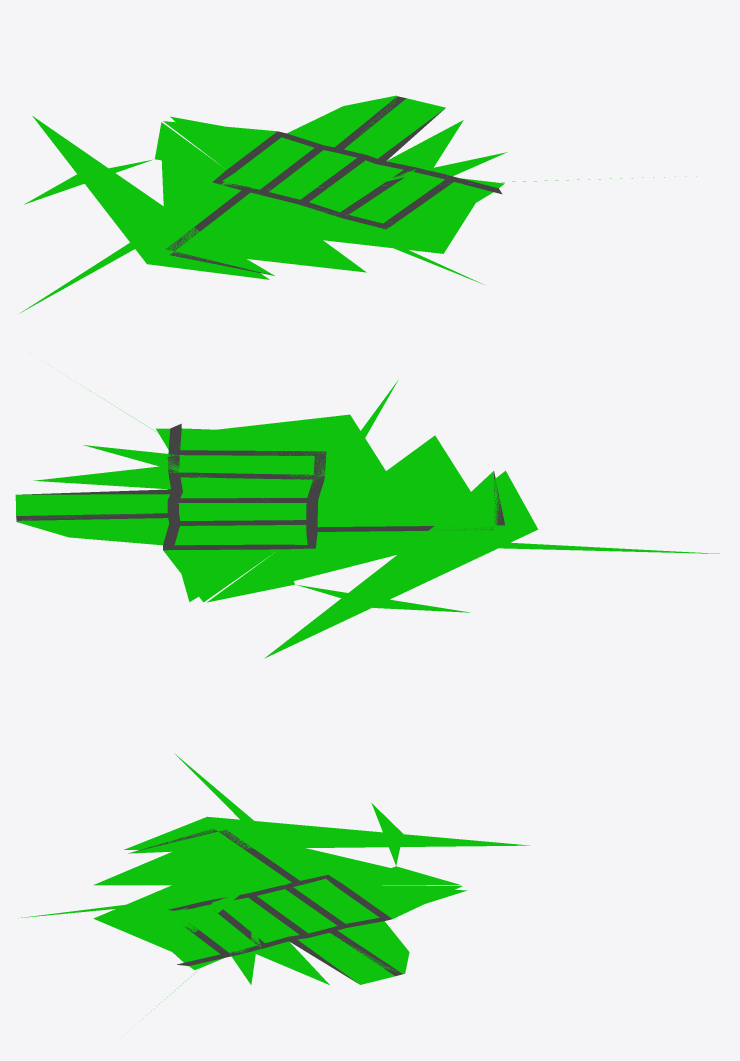
3 renders of one model, top to bottom at view 1: azimuth 30°, elevation 25°; view 2: azimuth 150°, elevation 25°; view 3: azimuth 270°, elevation 25°, orthographic. The views are drawn at different scales.
Size of the model in its own units: 265 by 0 by 270.
